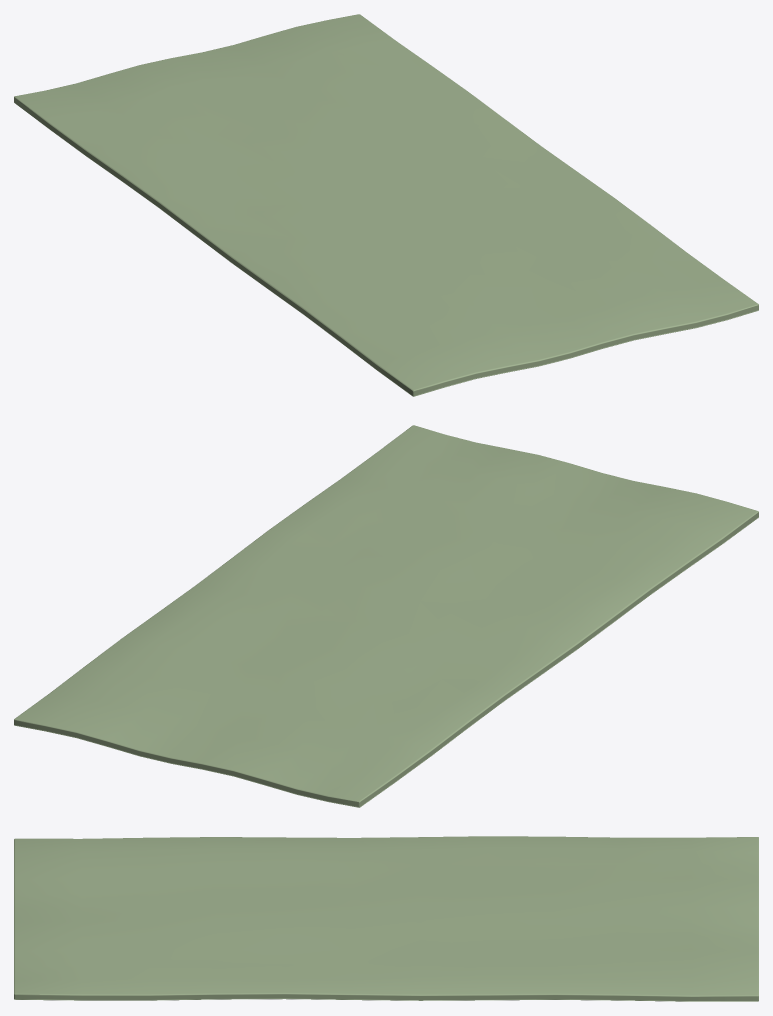
File: bed_cover__201.glb
3 views of the same model, one above another, from view 1: azimuth 30°, elevation 25°; view 2: azimuth 150°, elevation 25°; view 3: azimuth 270°, elevation 25° (orthographic). The views are drawn at different scales.
Parts seen in each view (by area): view 1: bed_cover__201; view 2: bed_cover__201; view 3: bed_cover__201.
Boxes of the visible parts, x1=… form: bed_cover__201: x1=14, y1=14, x2=758, y2=396; bed_cover__201: x1=14, y1=425, x2=758, y2=807; bed_cover__201: x1=14, y1=836, x2=758, y2=1001.
Bounding box in the file's own units: 1 × 0.04 × 2.
